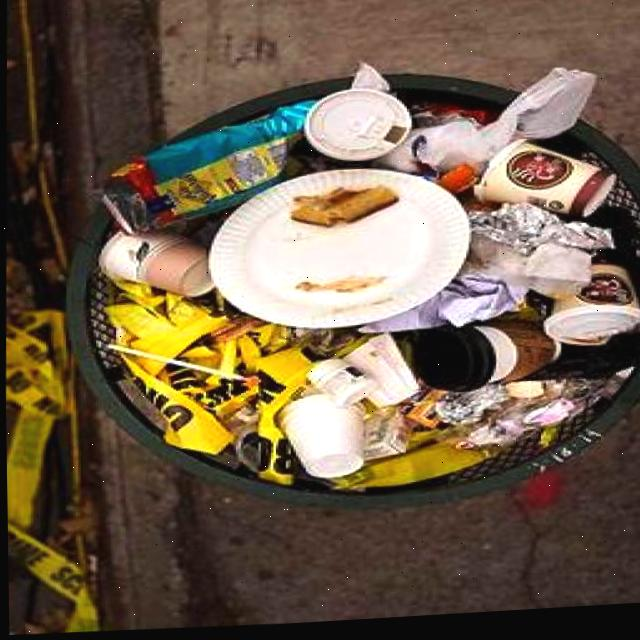Cig_pack: (341, 337, 417, 411), (361, 412, 404, 465)
Foam cups and plates: (208, 173, 467, 332), (472, 146, 613, 222), (541, 271, 640, 353), (302, 92, 410, 164), (96, 234, 211, 299), (278, 398, 361, 482), (471, 328, 558, 389)
Garbage: (96, 69, 640, 494)
Plastic: (410, 331, 493, 398), (305, 362, 375, 410)
Plastic_Bag: (380, 75, 594, 176)
Plastic_Straw: (103, 345, 251, 384)
Plastic_wraper: (99, 104, 313, 236)
